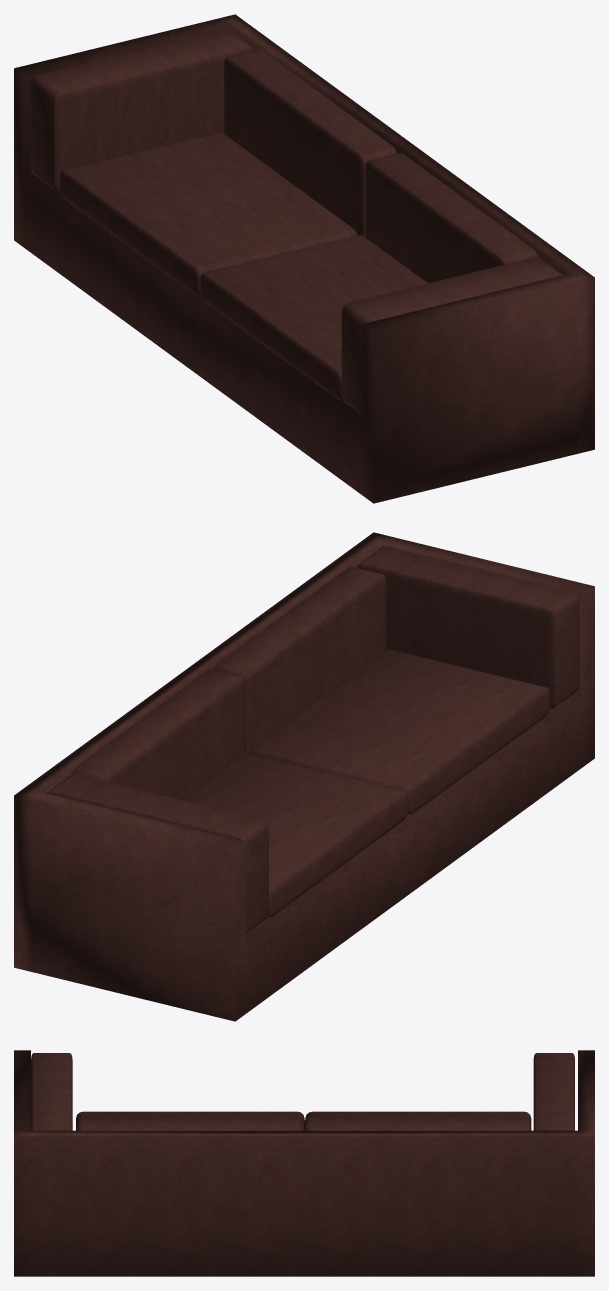
The model's file is couch2.obj.
3 views of the same model, one above another, from view 1: azimuth 30°, elevation 25°; view 2: azimuth 150°, elevation 25°; view 3: azimuth 270°, elevation 25° (orthographic). The views are drawn at different scales.
Visible parts, largest first — view 1: couch2; view 2: couch2; view 3: couch2.
Part boxes in pixels (x1,y1,x2,y2): couch2: [14, 14, 594, 503]; couch2: [14, 532, 594, 1021]; couch2: [14, 1050, 594, 1276].
Bounding box in the file's own units: 0.836 × 0.6248 × 2.35.
Materials: 1 (1 with a texture image).
